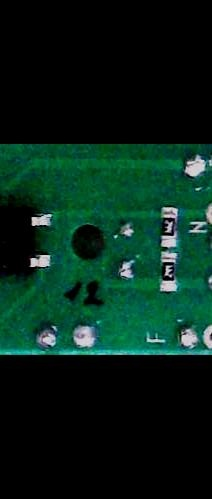chip-resistor: (156, 251, 180, 295), (157, 206, 179, 248)
ic: (0, 204, 56, 278)
